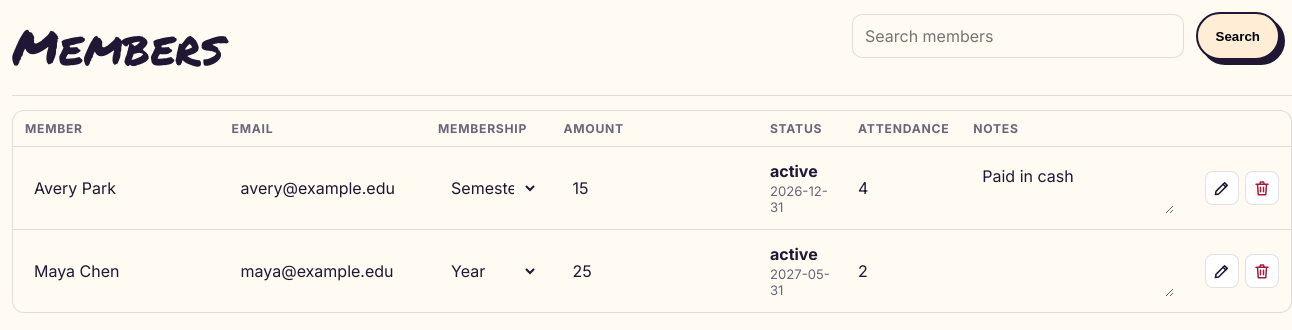
Test: MembershipsTable › enables only the selected member row and changes its pencil to save
The image size is (1292, 330).
expect the 1st field named "Full name for Avery Park" is disabled: met, box [25,169,208,207]
expect the 3rd field named "Full name for Maya Chen" is disabled: met, box [25,252,208,290]
Click the button named "Edit Avery Park". click: point(1222, 188)
box: [1205,171,1239,205]
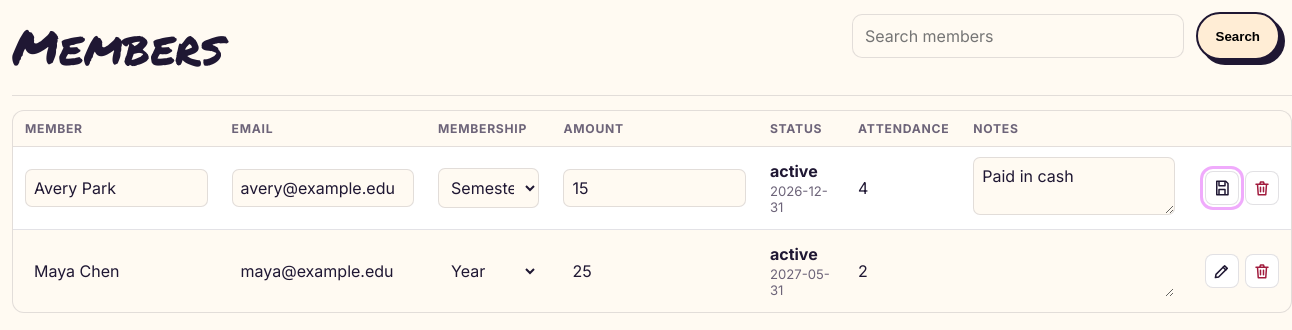
expect the 1st field named "Full name for Avery Park" is enabled: met, box [25,169,208,207]
expect the button named "Save Avery Park" is shown: met, box [1205,171,1239,205]
